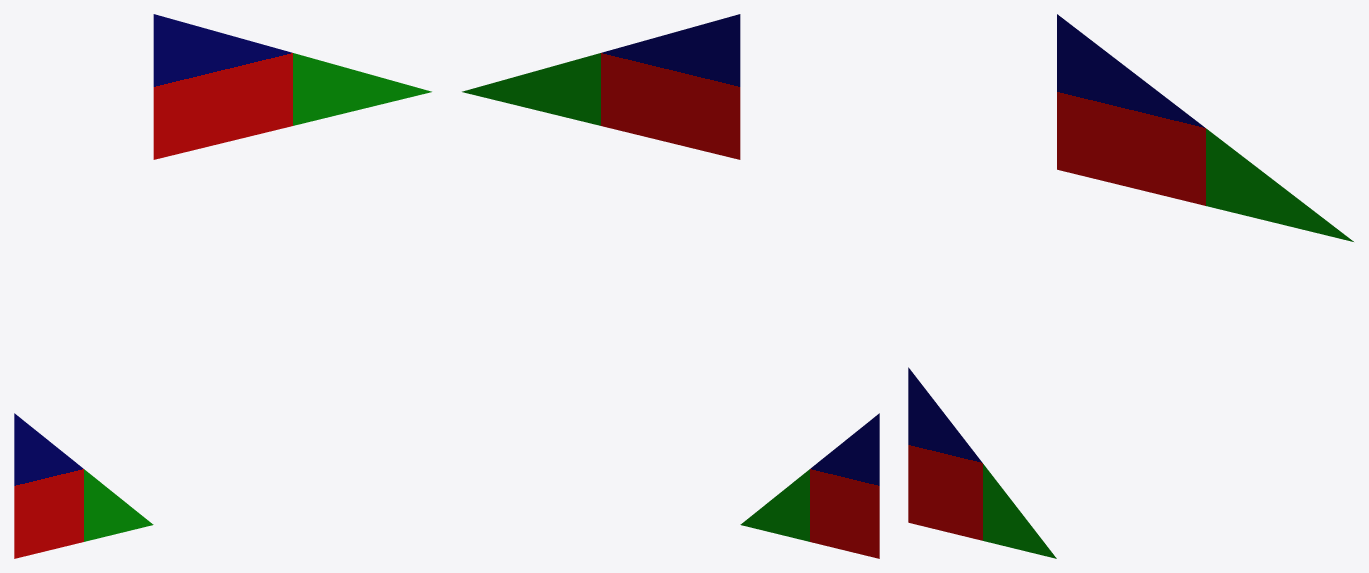
Rendered from structured.gltf.
3 renders of one model, left to right at view 1: azimuth 30°, elevation 25°; view 2: azimuth 150°, elevation 25°; view 3: azimuth 330°, elevation 25°, orthographic. The views are drawn at different scales.
Visible parts, largest first — view 1: Second, First; view 2: Second, First; view 3: Second, First.
Part boxes in pixels (bbox=[...]): Second: bbox=[153, 14, 431, 159]; First: bbox=[14, 413, 153, 558]; Second: bbox=[462, 14, 740, 159]; First: bbox=[740, 413, 879, 558]; Second: bbox=[1057, 14, 1353, 241]; First: bbox=[908, 367, 1056, 558].
Size of the model in its own units: 6 by 7 by 0.
Materials: 2 (1 with a texture image).
